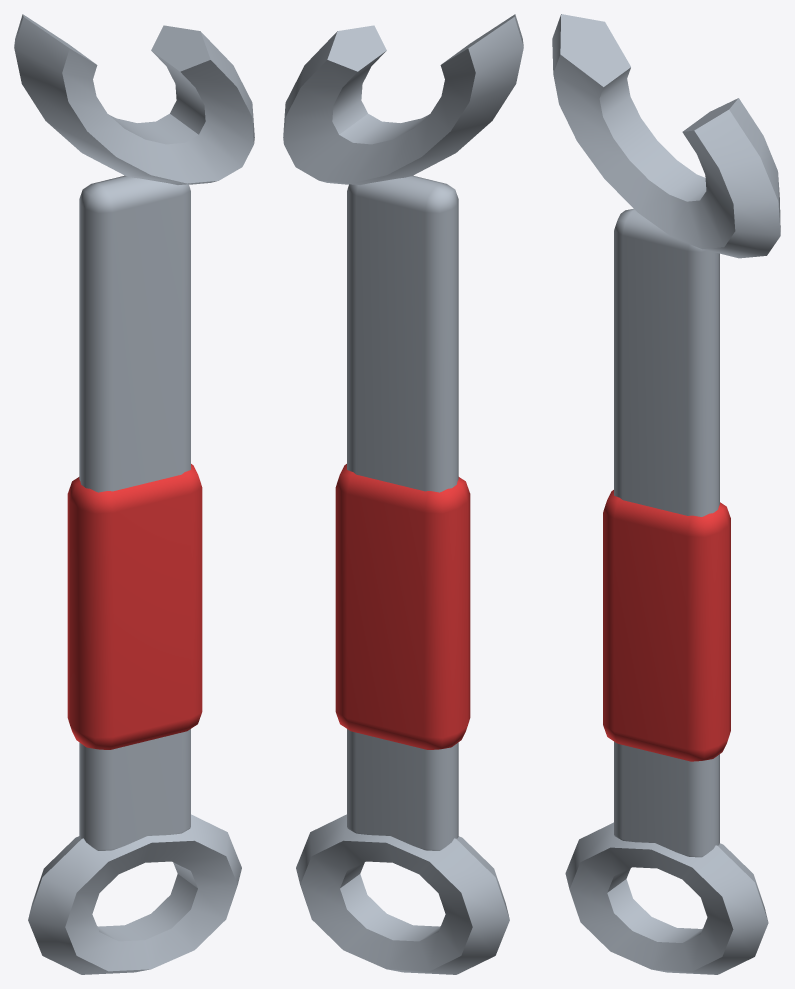
File: Wrench.fbx
3 renders of one model, left to right at view 1: azimuth 30°, elevation 25°; view 2: azimuth 150°, elevation 25°; view 3: azimuth 330°, elevation 25°, orthographic. The views are drawn at different scales.
Parts seen in each view (by area): view 1: Wrench; view 2: Wrench; view 3: Wrench.
Boxes of the visible parts, x1,y1,x2,y2 form: Wrench: (14, 14, 254, 974); Wrench: (283, 14, 523, 974); Wrench: (552, 14, 780, 974).
Size of the model in its own units: 0.5623 by 2.19 by 0.1902.
Materials: 1 (1 with a texture image).
